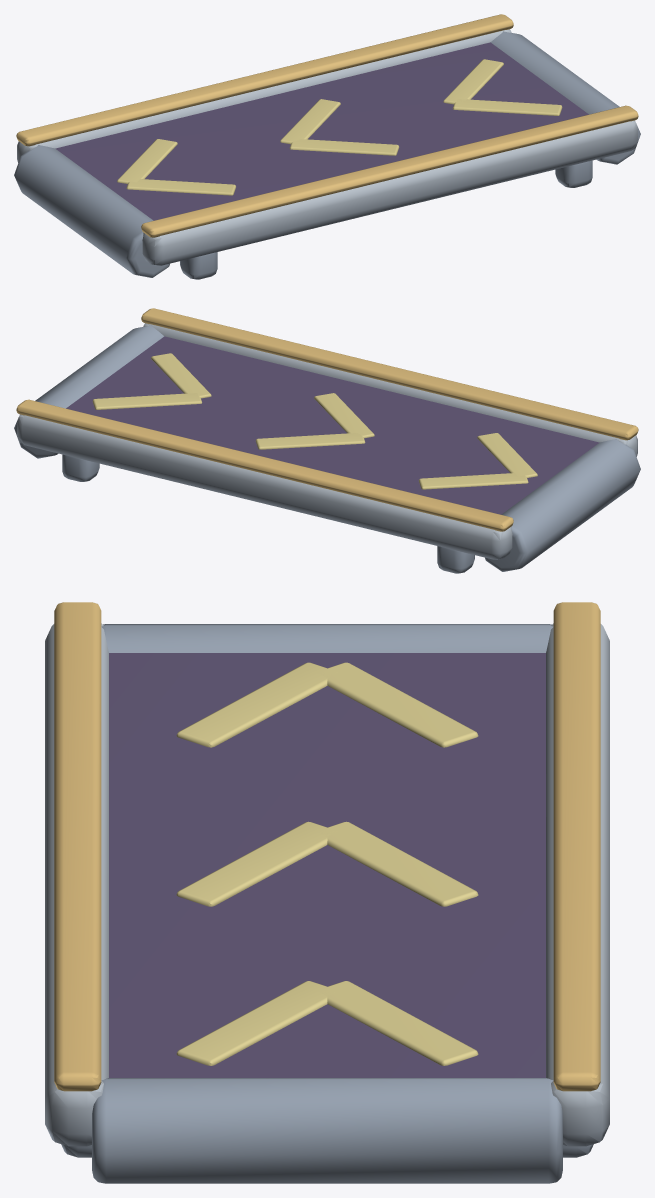
The model's file is conveyor.glb.
The picture shows the model from 3 angles, top to bottom: view 1: azimuth 30°, elevation 25°; view 2: azimuth 150°, elevation 25°; view 3: azimuth 270°, elevation 25°; orthographic projection. The views are drawn at different scales.
Parts seen in each view (by area): view 1: Body; view 2: Body; view 3: Body.
Boxes of the visible parts, x1,y1,x2,y2 form: Body: [14, 14, 640, 279]; Body: [14, 308, 640, 573]; Body: [45, 602, 609, 1183].
Size of the model in its own units: 12.6 by 1.53 by 6.
